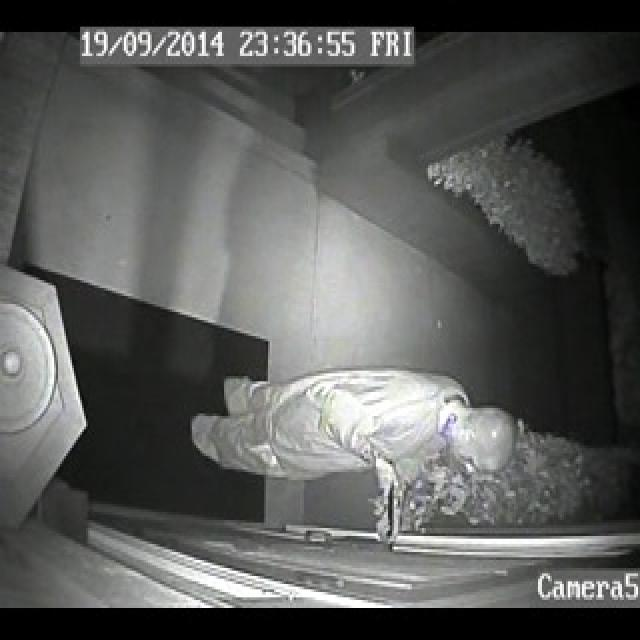burglary: (211, 336, 523, 567)
